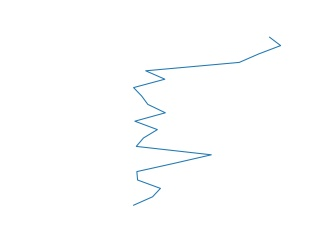crevasseRiverChannelBar: (124, 35, 284, 209)
